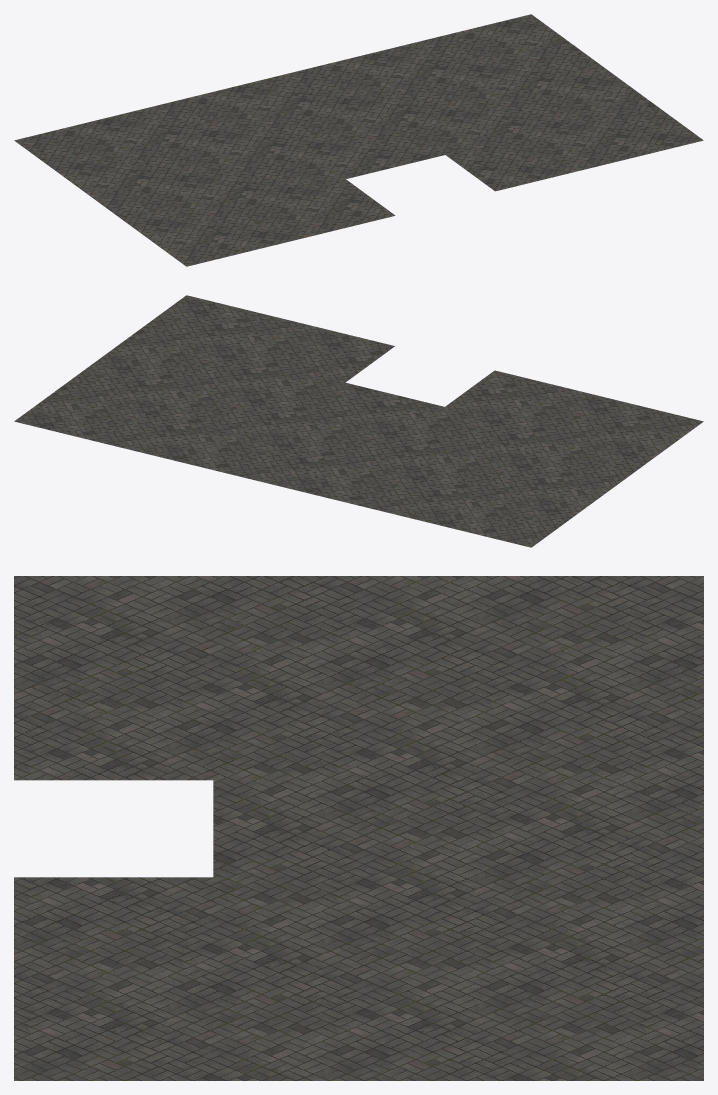
Rendered from DN_mctaimian02.FBX.
3 renders of one model, top to bottom at view 1: azimuth 30°, elevation 25°; view 2: azimuth 150°, elevation 25°; view 3: azimuth 270°, elevation 25°, orthographic. The views are drawn at different scales.
Visible parts, largest first — view 1: DN_mctaimian02; view 2: DN_mctaimian02; view 3: DN_mctaimian02.
Boxes of the visible parts, box(x1,y1,x2,y2) form: DN_mctaimian02: box(14, 14, 703, 266); DN_mctaimian02: box(14, 295, 703, 547); DN_mctaimian02: box(14, 576, 703, 1080).
Bounding box in the file's own units: 7581 × 1.25e-12 × 4379.
